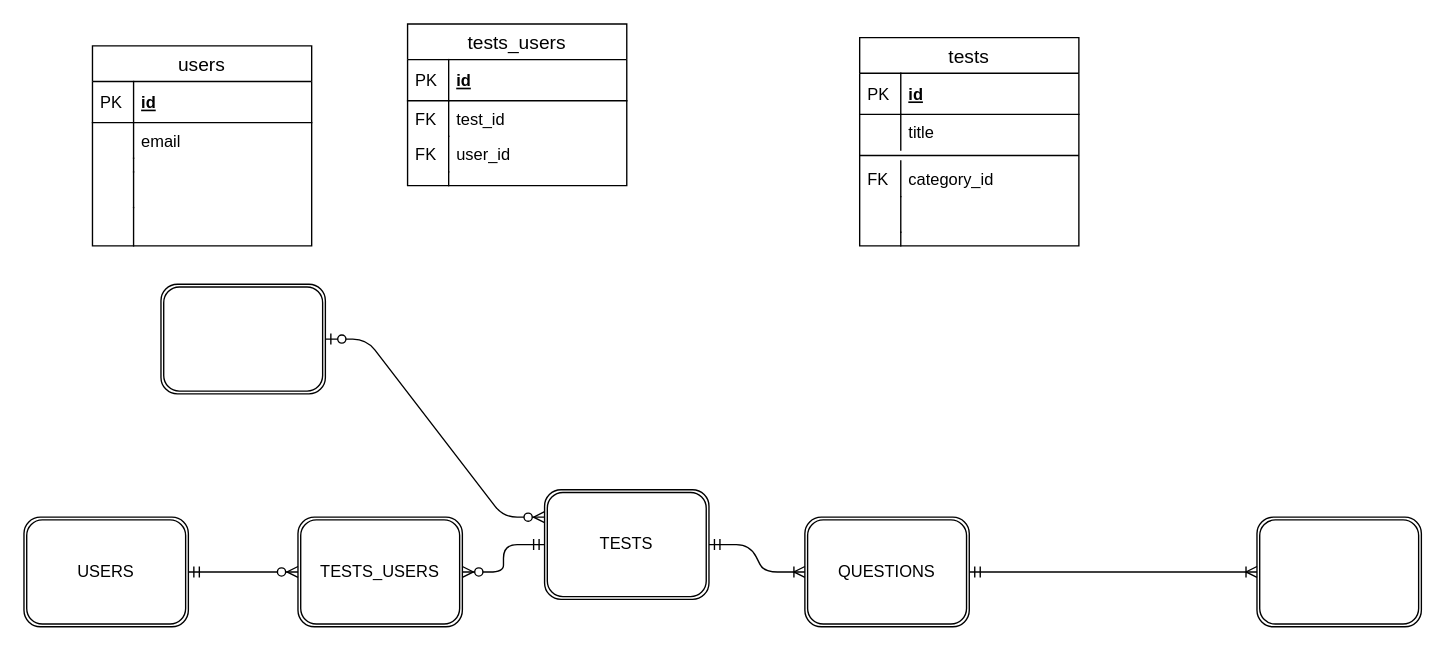
The diagram is 1445 pixels wide and 651 high, and some of its shapes have lost their labels. Here are the shapes that lost their labels. From the top down, the centre of each, then its label:
point (242, 338): CATEGORIES
point (1338, 571): ANSWERS
